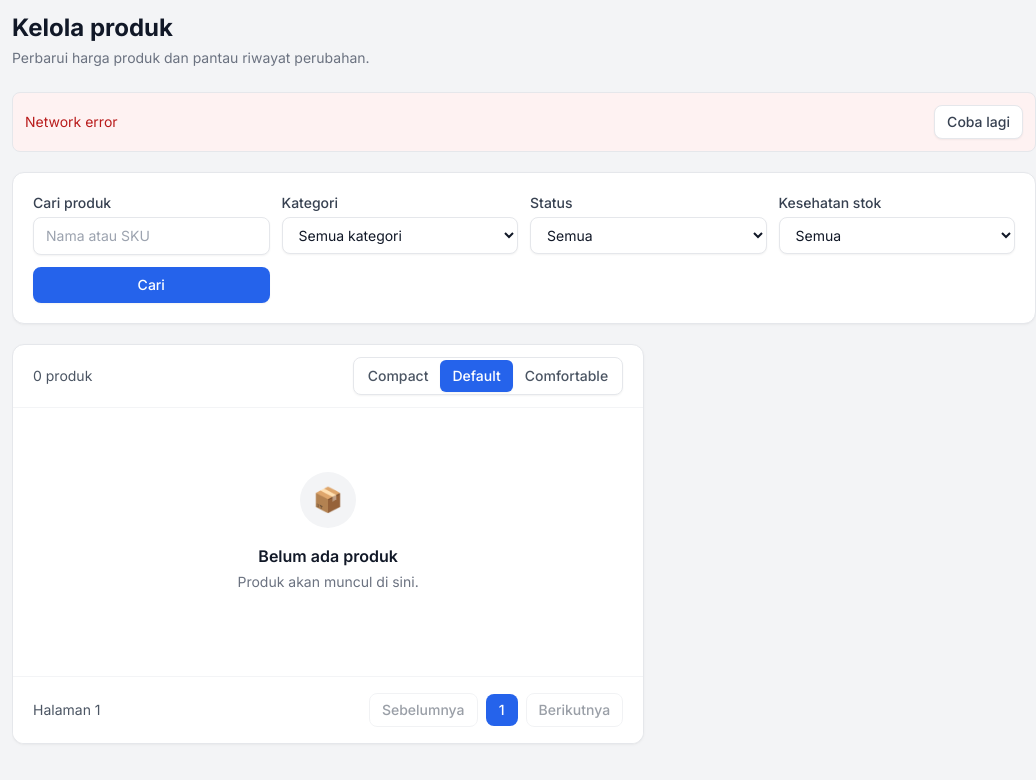
Scenario: admin products page › product list failure and retry › retry does not duplicate the request while one is loading
Check: the message "Network error Coba lagi" is shown, box [12,92,1035,152]
# Click retry → should make exactly one additional request.
Click the button "Coba lagi".
click(979, 122)  # box [934,105,1023,139]
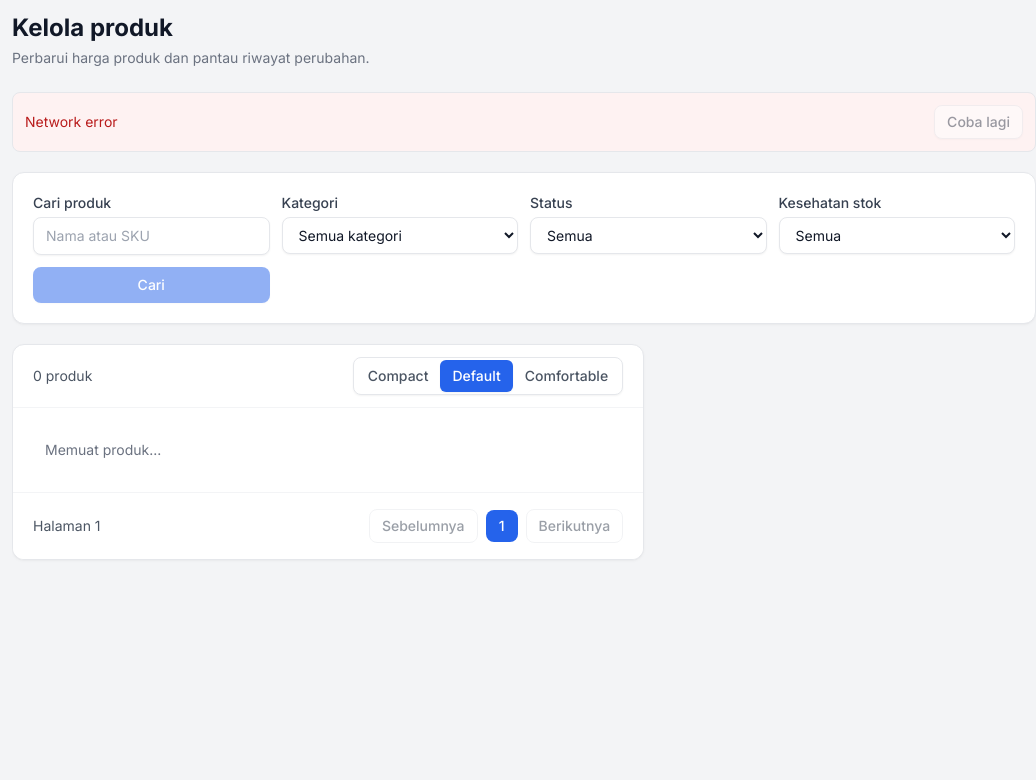
Check: the button "Coba lagi" is disabled
# Second activation while loading must not start another request.
Click the button "Coba lagi".
click(979, 122)  # box [934,105,1023,139]
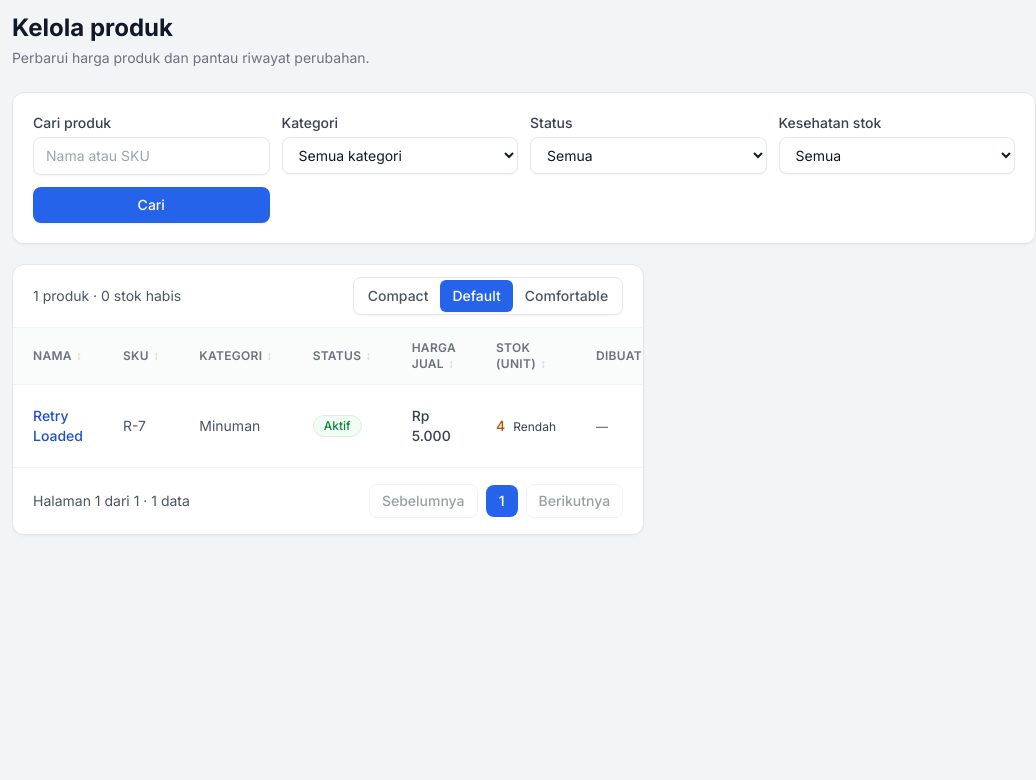
Check: the button "Retry Loaded" is shown, box [33,406,83,446]
Check: the button "Coba lagi" is gone
